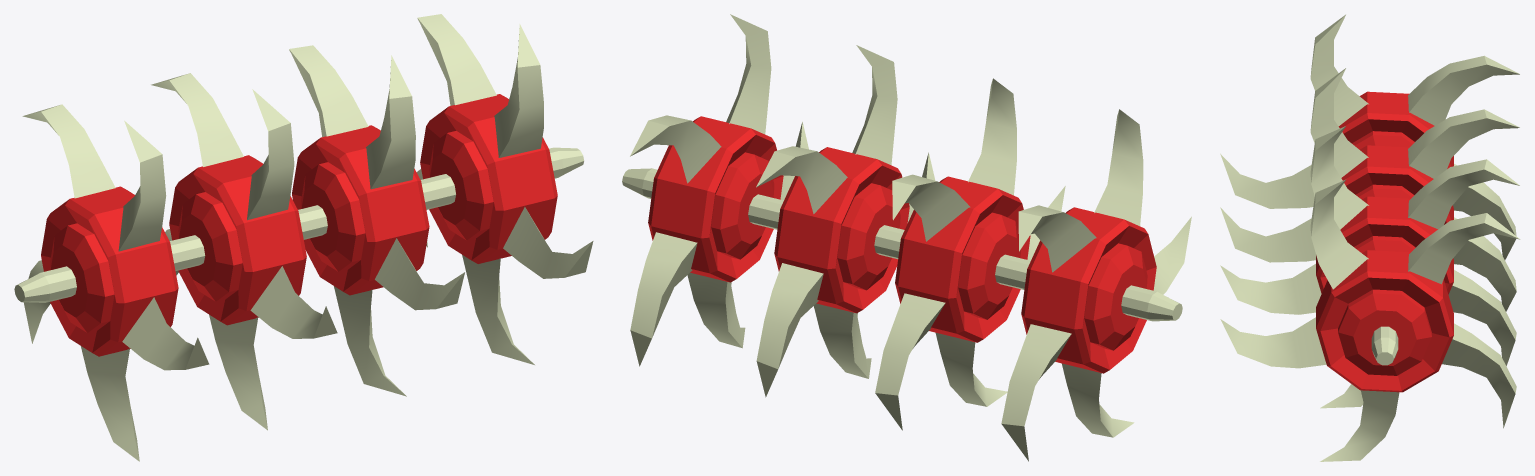
File: 5_level_knife.fbx
3 views of the same model, side by side, from view 1: azimuth 30°, elevation 25°; view 2: azimuth 150°, elevation 25°; view 3: azimuth 270°, elevation 25° (orthographic). The views are drawn at different scales.
Parts seen in each view (by area): view 1: Knife_5_Tooth_cylinder; view 2: Knife_5_Tooth_cylinder; view 3: Knife_5_Tooth_cylinder.
Boxes of the visible parts, x1,y1,x2,y2 form: Knife_5_Tooth_cylinder: (14, 14, 593, 461); Knife_5_Tooth_cylinder: (622, 14, 1191, 461); Knife_5_Tooth_cylinder: (1220, 14, 1520, 461).
Size of the model in its own units: 4.28 by 2.41 by 2.33.
